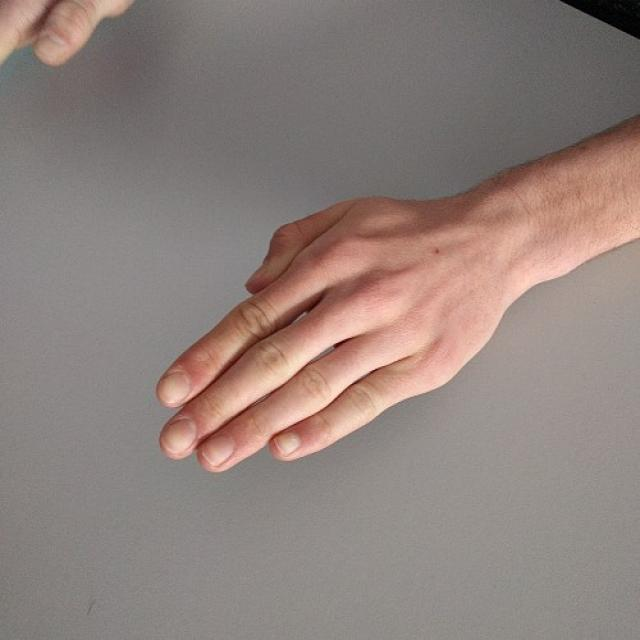paper: (156, 193, 458, 478)
